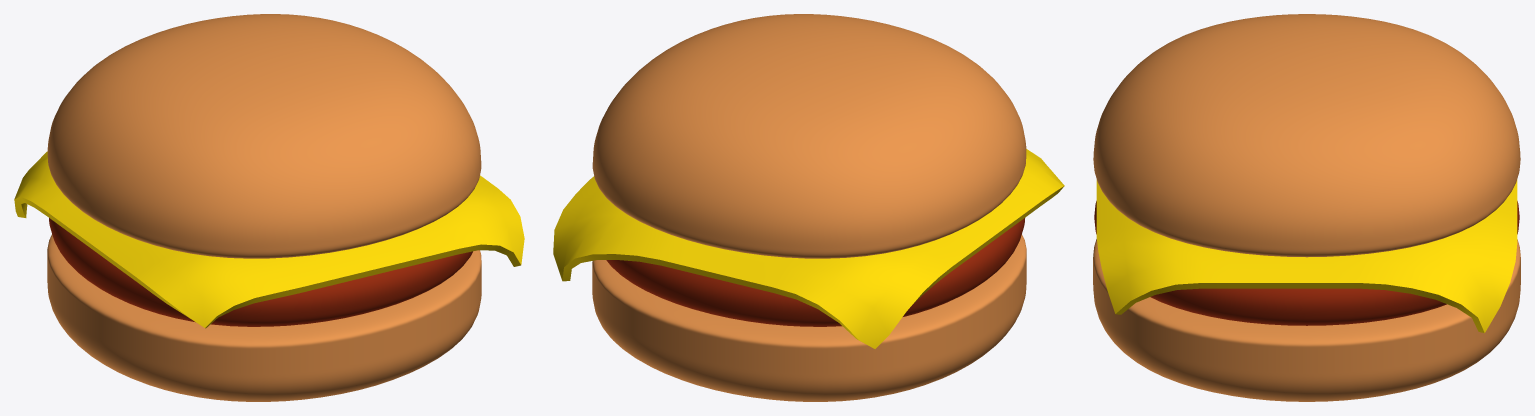
Rendered from hamburger.glb.
3 renders of one model, left to right at view 1: azimuth 30°, elevation 25°; view 2: azimuth 150°, elevation 25°; view 3: azimuth 270°, elevation 25°, orthographic.
Visible parts, largest first — view 1: Object.002, Object, Plane, Object.001; view 2: Object.002, Object, Plane, Object.001; view 3: Object.002, Object, Plane, Object.001.
Part boxes in pixels (x1,y1,x2,y2): Object.002: (47, 14, 481, 258); Object: (47, 234, 481, 401); Plane: (14, 151, 524, 328); Object.001: (49, 218, 472, 326); Object.002: (592, 14, 1026, 258); Object: (592, 234, 1026, 401); Plane: (553, 149, 1064, 348); Object.001: (606, 218, 1024, 326); Object.002: (1093, 14, 1520, 257); Object: (1093, 239, 1520, 401); Plane: (1096, 179, 1517, 333); Object.001: (1094, 201, 1519, 325).
Size of the model in its own units: 9.18 by 6.83 by 9.18.
